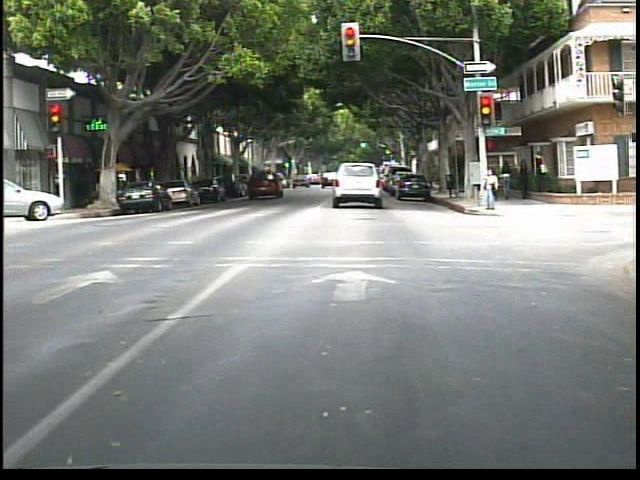person: (478, 166, 501, 214), (499, 158, 517, 203), (516, 159, 534, 204), (531, 151, 549, 192)
